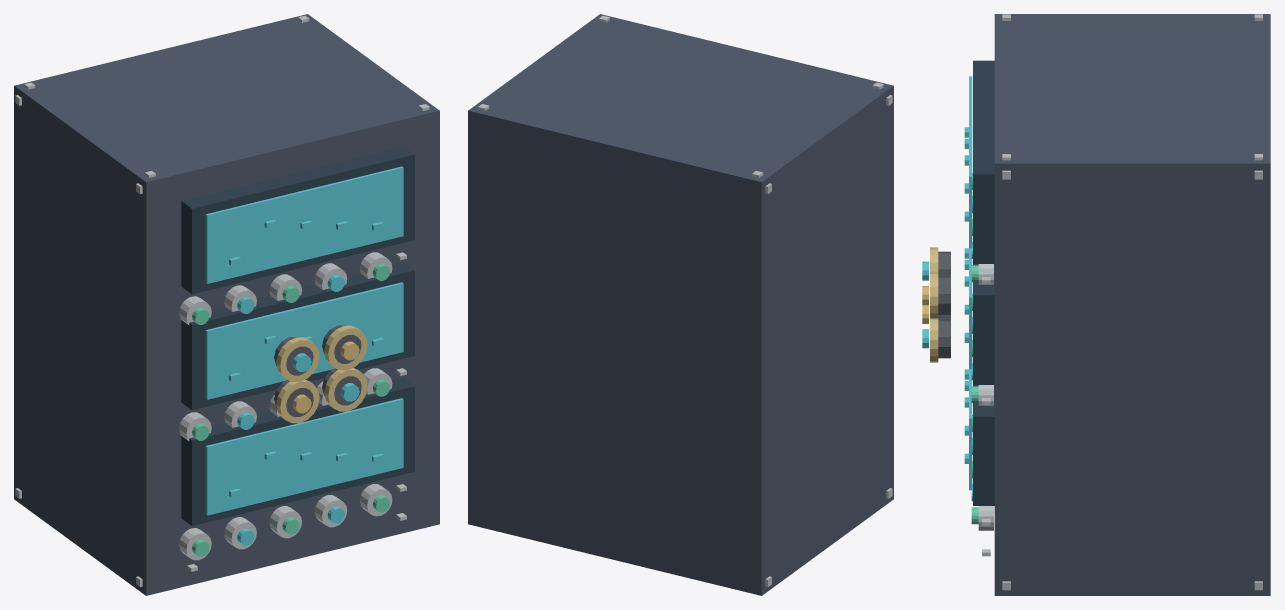
Rendered from 57_L82_ProtectedSensorInputFilter.glb.
The picture shows the model from 3 angles, left to right: view 1: azimuth 30°, elevation 25°; view 2: azimuth 150°, elevation 25°; view 3: azimuth 270°, elevation 25°; orthographic projection. The views are drawn at different scales.
Visible parts, largest first — view 1: ProtectedSensorInputFilter_Node_0000, ProtectedSensorInputFilter_Node_0010, ProtectedSensorInputFilter_Node_0044, ProtectedSensorInputFilter_Node_0027, ProtectedSensorInputFilter_Node_0009, ProtectedSensorInputFilter_Node_0026, ProtectedSensorInputFilter_Node_0043, ProtectedSensorInputFilter_Node_0374, ProtectedSensorInputFilter_Node_0377, ProtectedSensorInputFilter_Node_0371, ProtectedSensorInputFilter_Node_0368, ProtectedSensorInputFilter_Node_0050 (+4 smaller); view 2: ProtectedSensorInputFilter_Node_0000; view 3: ProtectedSensorInputFilter_Node_0000, ProtectedSensorInputFilter_Node_0009, ProtectedSensorInputFilter_Node_0026, ProtectedSensorInputFilter_Node_0043, ProtectedSensorInputFilter_Node_0010, ProtectedSensorInputFilter_Node_0370, ProtectedSensorInputFilter_Node_0376.
Part boxes in pixels (box(x1,y1,x2,y2)): ProtectedSensorInputFilter_Node_0000: box(14, 14, 439, 595); ProtectedSensorInputFilter_Node_0010: box(205, 166, 403, 283); ProtectedSensorInputFilter_Node_0044: box(205, 398, 403, 515); ProtectedSensorInputFilter_Node_0027: box(205, 282, 403, 399); ProtectedSensorInputFilter_Node_0009: box(181, 147, 414, 294); ProtectedSensorInputFilter_Node_0026: box(181, 262, 414, 410); ProtectedSensorInputFilter_Node_0043: box(181, 378, 414, 525); ProtectedSensorInputFilter_Node_0374: box(276, 337, 319, 381); ProtectedSensorInputFilter_Node_0377: box(324, 325, 367, 370); ProtectedSensorInputFilter_Node_0371: box(324, 368, 367, 411); ProtectedSensorInputFilter_Node_0368: box(276, 379, 319, 423); ProtectedSensorInputFilter_Node_0050: box(179, 528, 211, 560); ProtectedSensorInputFilter_Node_0000: box(468, 14, 893, 595); ProtectedSensorInputFilter_Node_0000: box(994, 14, 1270, 595); ProtectedSensorInputFilter_Node_0009: box(973, 60, 994, 263); ProtectedSensorInputFilter_Node_0026: box(973, 264, 994, 384); ProtectedSensorInputFilter_Node_0043: box(973, 385, 994, 505); ProtectedSensorInputFilter_Node_0010: box(969, 76, 972, 248); ProtectedSensorInputFilter_Node_0370: box(938, 319, 950, 358); ProtectedSensorInputFilter_Node_0376: box(938, 276, 950, 314).
Bounding box in the file's own units: 1.06 × 1.42 × 1.02.
